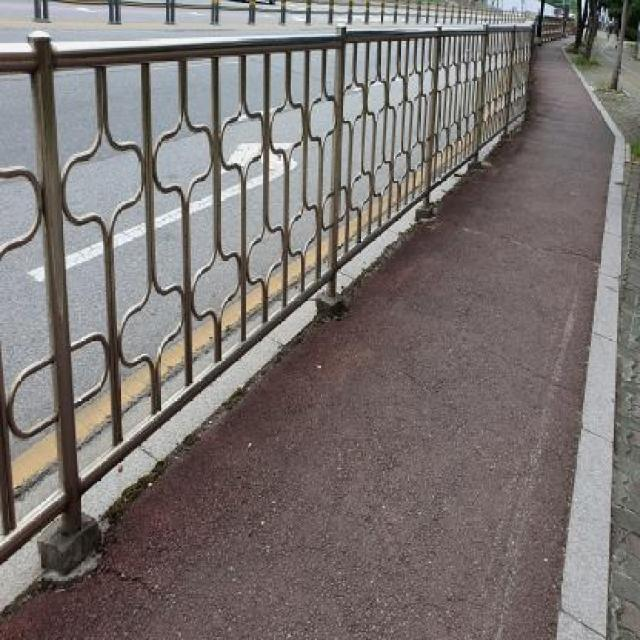fence: (6, 23, 354, 577), (333, 8, 554, 258)
